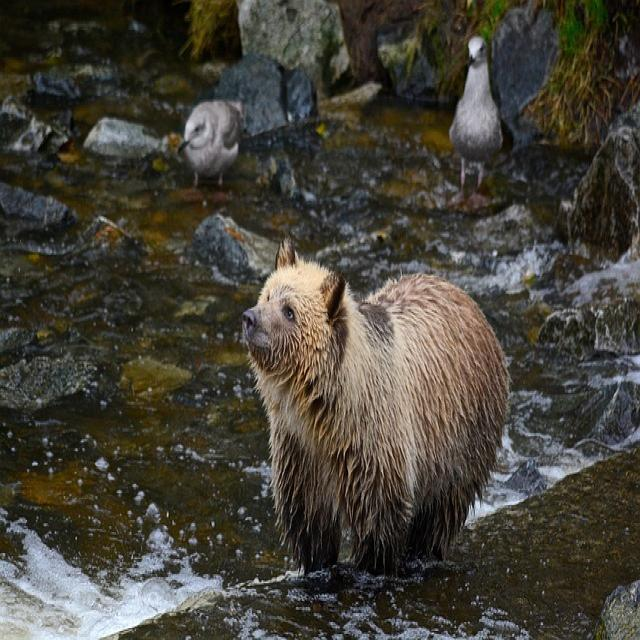Carnivorous: (239, 240, 510, 580)
